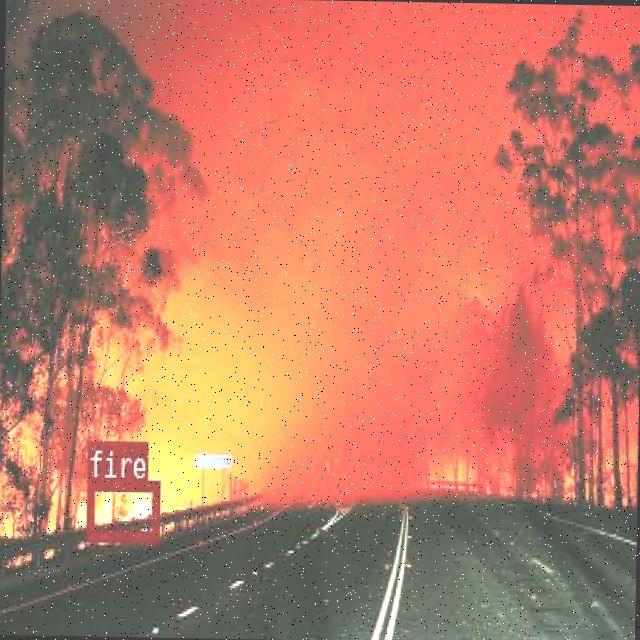fire: (85, 478, 158, 540)
